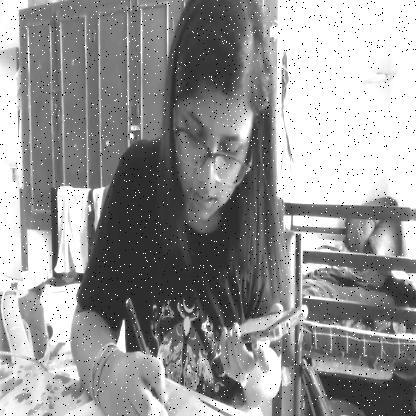Normal: (167, 0, 271, 234)
